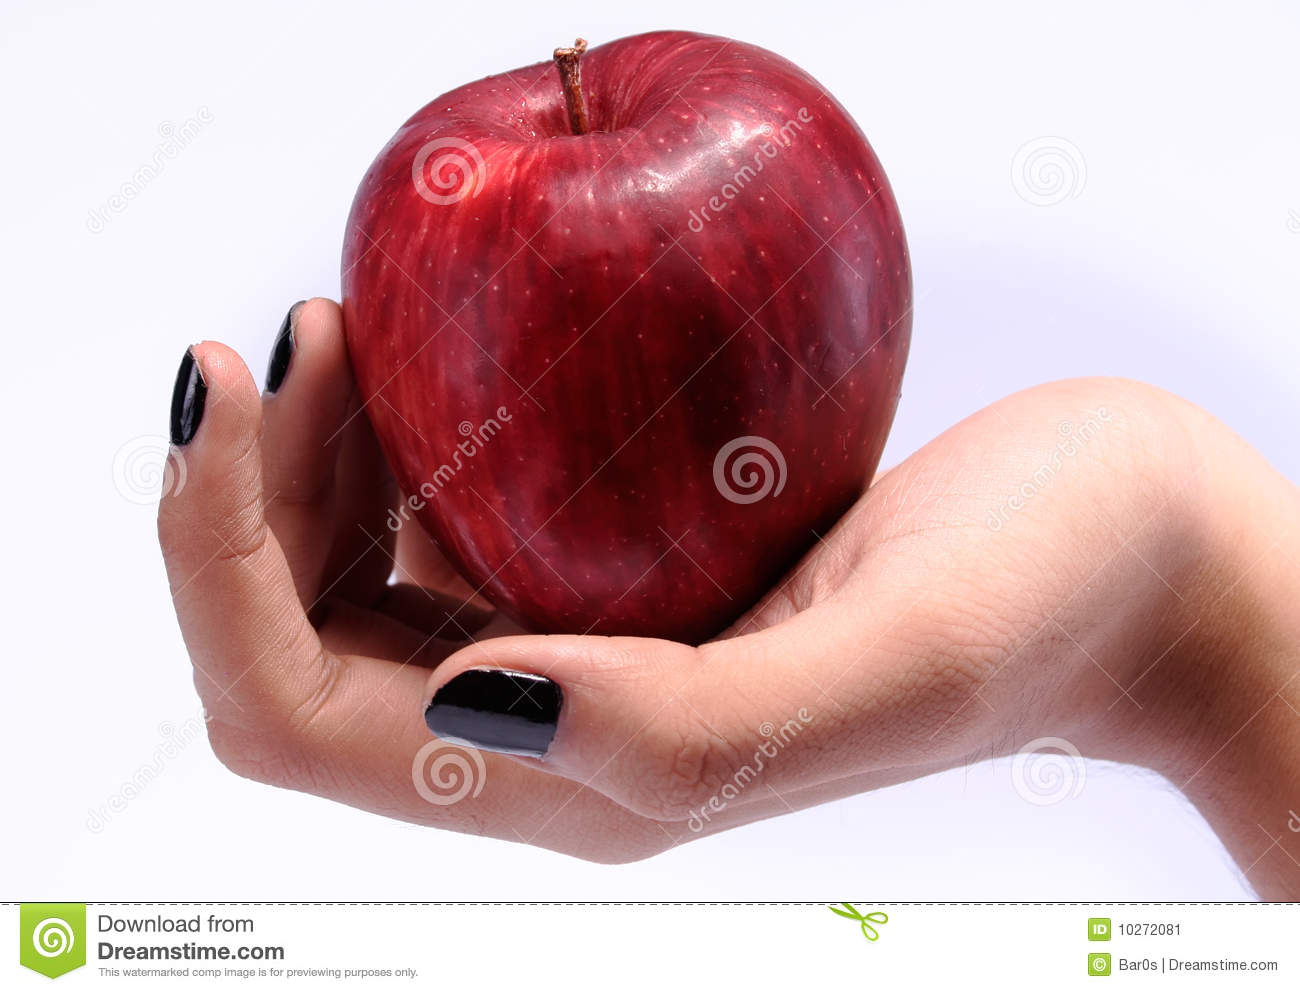apple: (337, 28, 916, 650)
